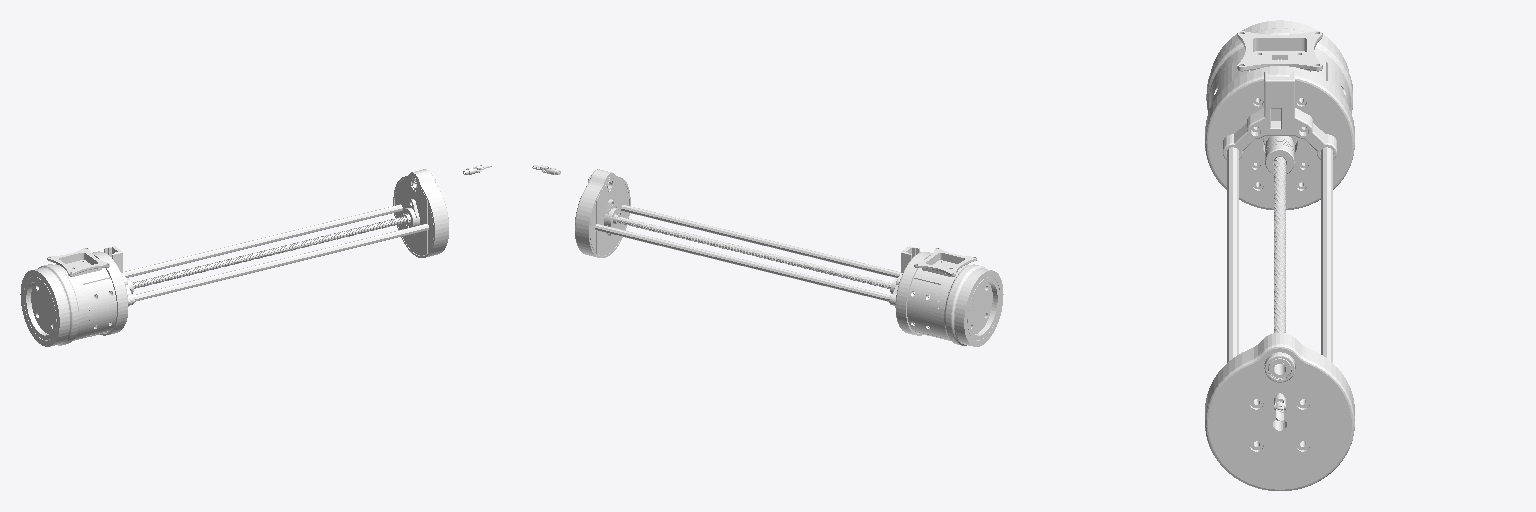
robot.urdf — robotic_instrument:
<?xml version="1.0"?>
<robot name="robotic_instrument">

   <material name="white">
      <color rgba="1 1 1 1"/>
   </material>

   <link name = "world" />
 
   <link name="frame">
      <visual>
         <origin xyz="-0.41250 0 -5.24" rpy="1.5708 0 3.14159"/>
         <geometry>
            <mesh filename="package://instrument_description/meshes/frame.stl" scale="0.01 0.01 0.01"/>
         </geometry>
         <material name="white"/>
      </visual>
   </link>

   <link name="platform">
      <visual>
         <origin xyz="-0.41250 0 -3.58" rpy="0 0 -1.5708"/>
         <geometry>
            <mesh filename="package://instrument_description/meshes/platform.stl" scale="0.01 0.01 0.01"/>
         </geometry>
         <material name="white"/>
      </visual>
   </link>

   <link name="scissor_base">
      <visual>
         <origin xyz="0 0 0" rpy="1.5708 0 1.5708"/>
         <geometry>
            <mesh filename="package://instrument_description/meshes/scissor_base.stl" scale="0.01 0.01 0.01"/>
         </geometry>
         <material name="white"/>
      </visual>
   </link>

   <link name="scissor_neck">
      <visual>
         <origin xyz="0 0 0" rpy="0 1.5708 0"/>
         <geometry>
            <mesh filename="package://instrument_description/meshes/scissor_neck.stl" scale="0.01 0.01 0.01"/>
         </geometry>
         <material name="white"/>
      </visual>
   </link>

   <link name="scissor_blade_top">
      <visual>
         <origin xyz="0 0 0" rpy="0 1.5708 -1.5708"/>
         <geometry>
            <mesh filename="package://instrument_description/meshes/scissor_blade.stl" scale="0.01 0.01 0.01"/>
         </geometry>
         <material name="white"/>
      </visual>
   </link>

   <link name="scissor_blade_bot">
      <visual>
         <origin xyz="0 0 0" rpy="0 -1.5708 -1.5708"/>
         <geometry>
            <mesh filename="package://instrument_description/meshes/scissor_blade.stl" scale="0.01 0.01 0.01"/>
         </geometry>
         <material name="white"/>
      </visual>
   </link>



   <joint name="world__frame" type="revolute">
      <limit effort="30" velocity="1.0" lower="-1.5708" upper="0"/> 
      <parent link="world"/>
      <child link="frame"/>
      <origin xyz="-3 0 3" rpy="-3.14159 -1.5708 0"/>
      <axis xyz="0 1 0"/>
   </joint>

   <joint name="frame__platform" type="prismatic">
      <limit effort="30" velocity="1.0" lower="0" upper="2.46"/> 
      <parent link="frame"/>
      <child link="platform"/>
      <origin xyz="0 0 0.48" rpy="0 0 0"/>
      <axis xyz="0 0 1"/>
   </joint>

   <joint name="platform__scissor_base" type="fixed">
      <parent link="platform"/>
      <child link="scissor_base"/>
      <origin xyz="0 0 0" rpy="0 0 0"/>
      <axis xyz="0 0 1"/>
   </joint>

   <joint name="scissor_base__scissor_neck" type="revolute">
      <limit effort="30" velocity="1.0" lower="-1.5708" upper="1.5708"/> 
      <parent link="scissor_base"/>
      <child link="scissor_neck"/>
      <origin xyz="0 0 0.08378" rpy="1.5708 0 0"/>
      <axis xyz="0 0 1"/>
   </joint>

   <joint name="scissor_neck__scissor__blade_top" type="revolute">
      <limit effort="30" velocity="1.0" lower="-1.5708" upper="1.5708"/> 
      <parent link="scissor_neck"/>
      <child link="scissor_blade_top"/>
      <origin xyz="0.01125 0.0878 0" rpy="1.5708 0 1.5708"/>
      <axis xyz="0 0 1"/>
   </joint>

   <joint name="scissor_base__scissor__blade_bot" type="revolute">
      <limit effort="30" velocity="1.0" lower="-1.5708" upper="1.5708"/> 
      <parent link="scissor_neck"/>
      <child link="scissor_blade_bot"/>
      <origin xyz="-0.01125 0.0878 0" rpy="1.5708 0 1.5708"/>
      <axis xyz="0 0 1"/>
   </joint>

</robot>

--- What the picture shows (computed from the rendered views, not written in the file) ---
The picture shows the robot from 3 angles, left to right: view 1: azimuth 30°, elevation 25°; view 2: azimuth 150°, elevation 25°; view 3: azimuth 270°, elevation 25°; orthographic projection.
Model robotic_instrument with 7 links and 6 joints (4 revolute, 1 prismatic, 1 fixed), rooted at world, posed all joints at 0.
Visible links, largest first — view 1: frame; view 2: frame; view 3: frame.
Boxes of the visible links, bbox=[...] form: frame: bbox=[20, 169, 448, 346]; frame: bbox=[575, 169, 1003, 346]; frame: bbox=[1205, 20, 1354, 490].
Size in the robot's own frame: 6.03 by 0.9695 by 1.05 metres.
5 mesh visuals loaded from 5 distinct referenced files (4 binary STL); not drawn: 1 (reference not matched to a file when rendering).